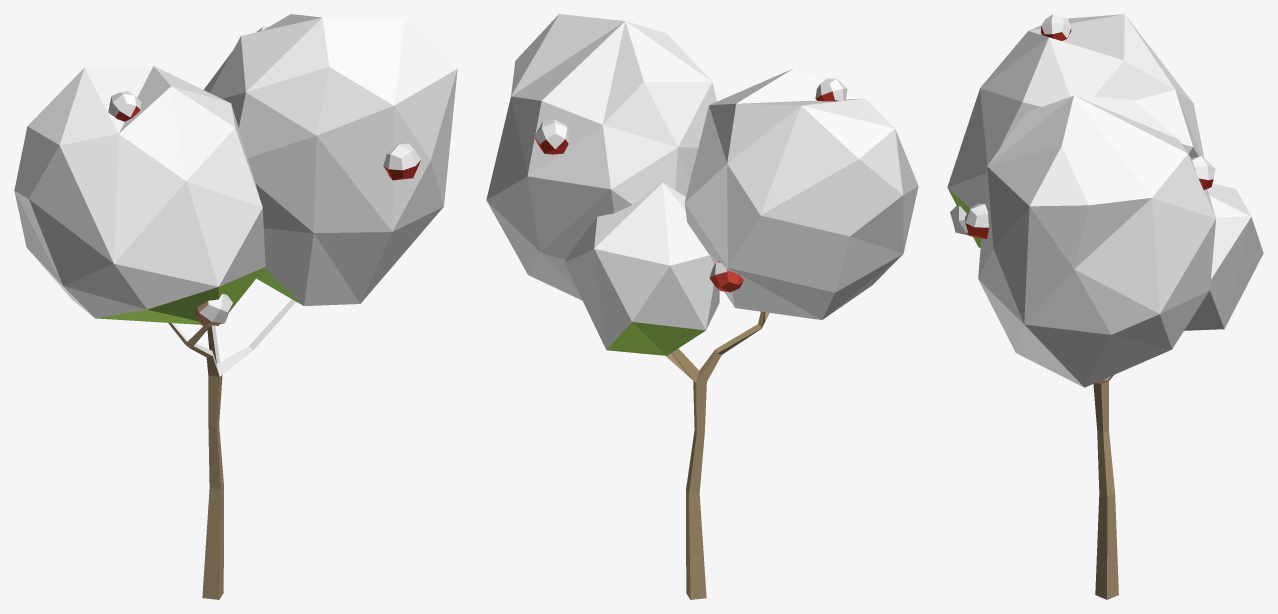
Rendered from Apple_Tree_Apples_s_Snow_03.fbx.
3 views of the same model, side by side, from view 1: azimuth 30°, elevation 25°; view 2: azimuth 150°, elevation 25°; view 3: azimuth 270°, elevation 25° (orthographic). The views are drawn at different scales.
Visible parts, largest first — view 1: Apple_Tree_Apples_s_Snow_03; view 2: Apple_Tree_Apples_s_Snow_03; view 3: Apple_Tree_Apples_s_Snow_03.
Boxes of the visible parts, bbox=[...] form: Apple_Tree_Apples_s_Snow_03: bbox=[14, 14, 457, 599]; Apple_Tree_Apples_s_Snow_03: bbox=[486, 14, 918, 599]; Apple_Tree_Apples_s_Snow_03: bbox=[947, 14, 1263, 599].
Bounding box in the file's own units: 227 × 304 × 161.
